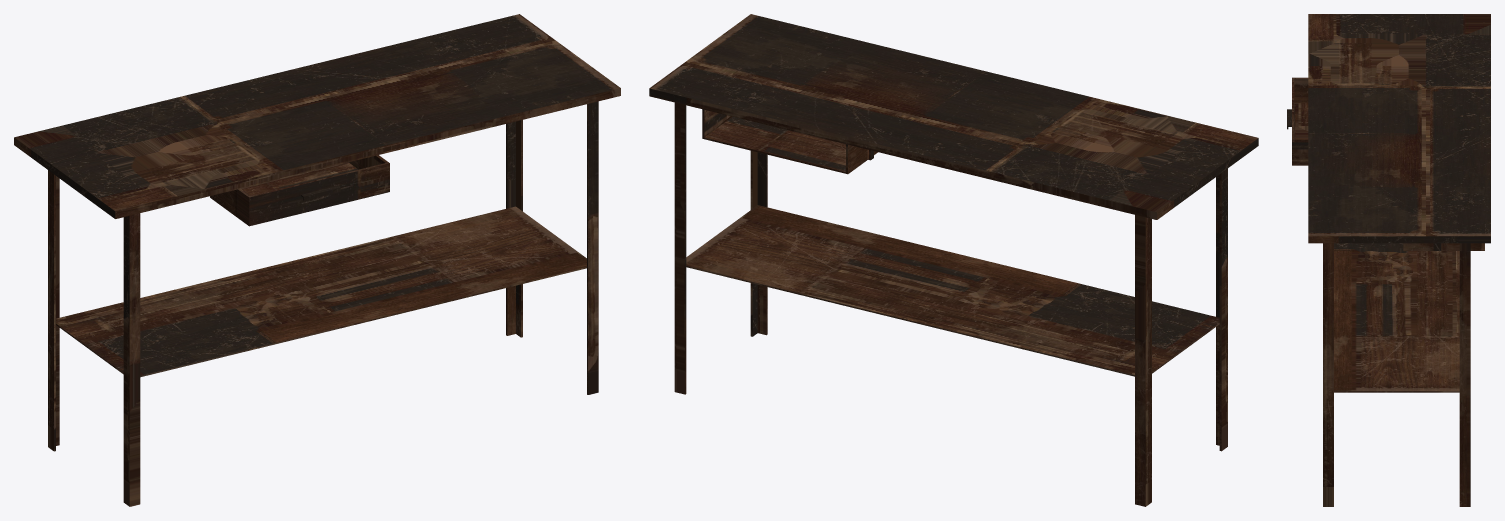
File: Meja 3.fbx
3 views of the same model, side by side, from view 1: azimuth 30°, elevation 25°; view 2: azimuth 150°, elevation 25°; view 3: azimuth 270°, elevation 25° (orthographic). The views are drawn at different scales.
Visible parts, largest first — view 1: Meja 3_LOD0; view 2: Meja 3_LOD0; view 3: Meja 3_LOD0.
Boxes of the visible parts, <box> form: Meja 3_LOD0: <box>14,14,620,506</box>; Meja 3_LOD0: <box>649,14,1258,506</box>; Meja 3_LOD0: <box>1287,14,1490,506</box>.
Size of what is drawn, in the model's own units: 200 by 116 by 77.46.
